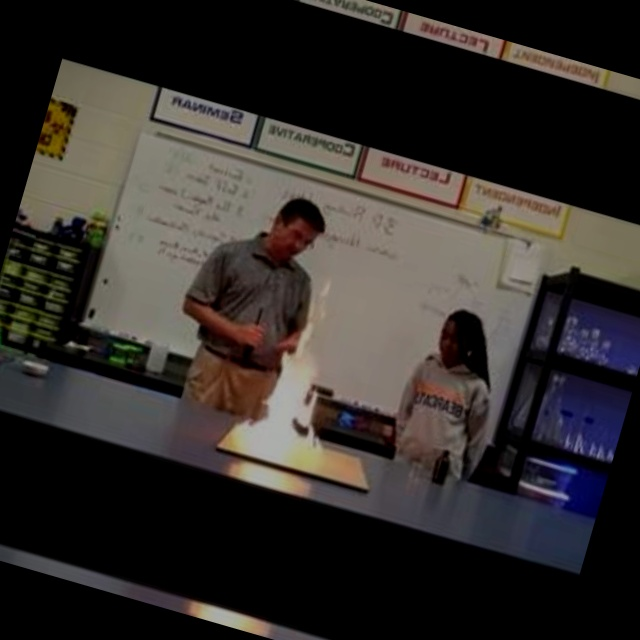fire: (232, 299, 361, 487)
